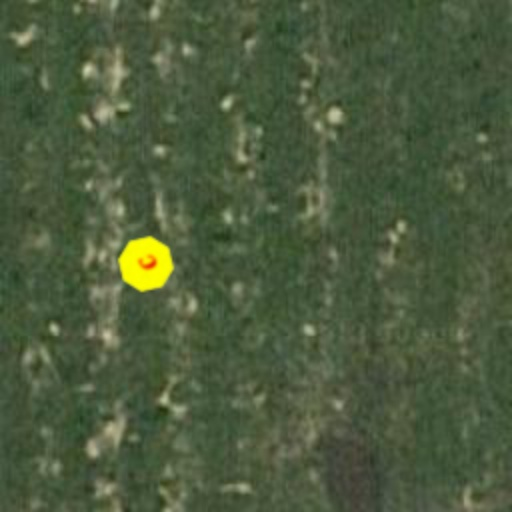octagon: (106, 224, 186, 304)
